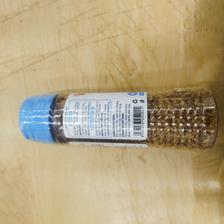TayNinh_blue: (18, 86, 217, 150)
